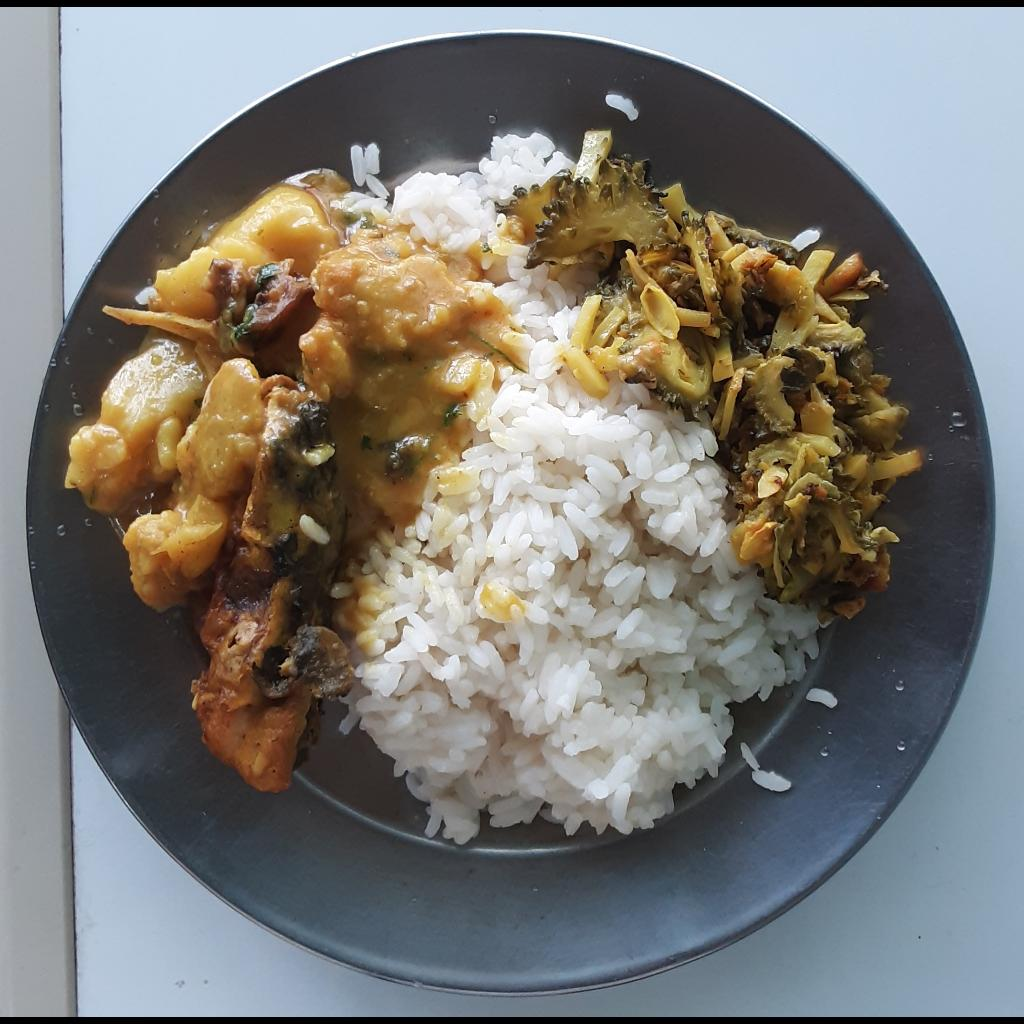fish: (188, 383, 348, 799), (103, 248, 312, 359)
kochu: (69, 159, 505, 615)
korola-vaji: (495, 128, 924, 618)
rice: (326, 130, 830, 849)
